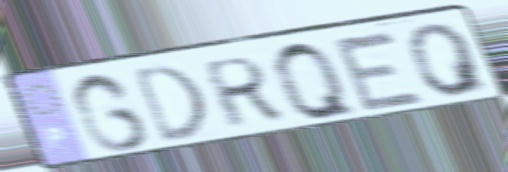D: (129, 61, 212, 148)
E: (327, 28, 430, 114)
G: (67, 70, 154, 155)
Q: (269, 39, 365, 124), (403, 19, 495, 100)
R: (201, 52, 287, 132)
